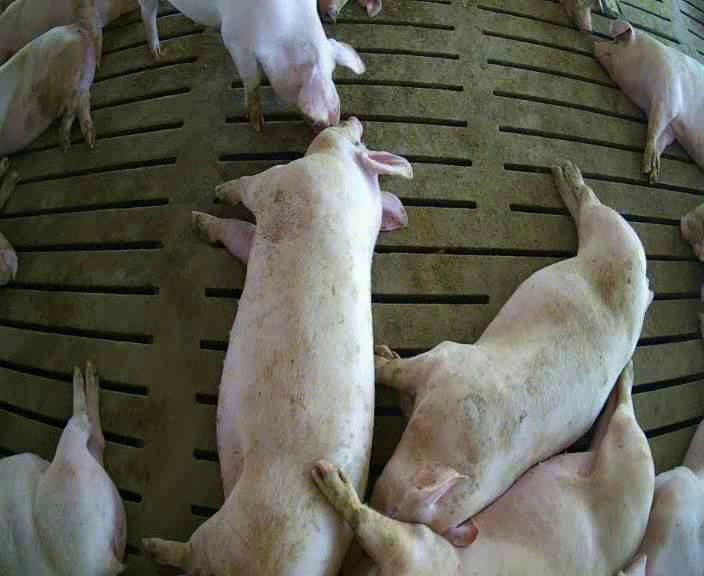pig: (145, 118, 411, 574), (371, 161, 650, 546), (313, 362, 654, 574), (0, 363, 124, 574), (594, 21, 703, 180), (0, 24, 95, 156)
